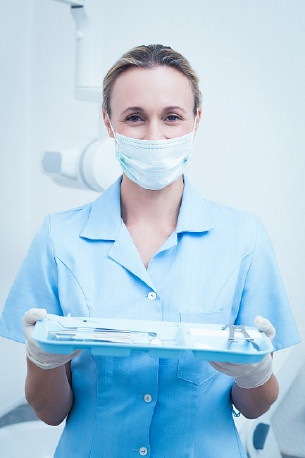Mask: (114, 103, 204, 191)
